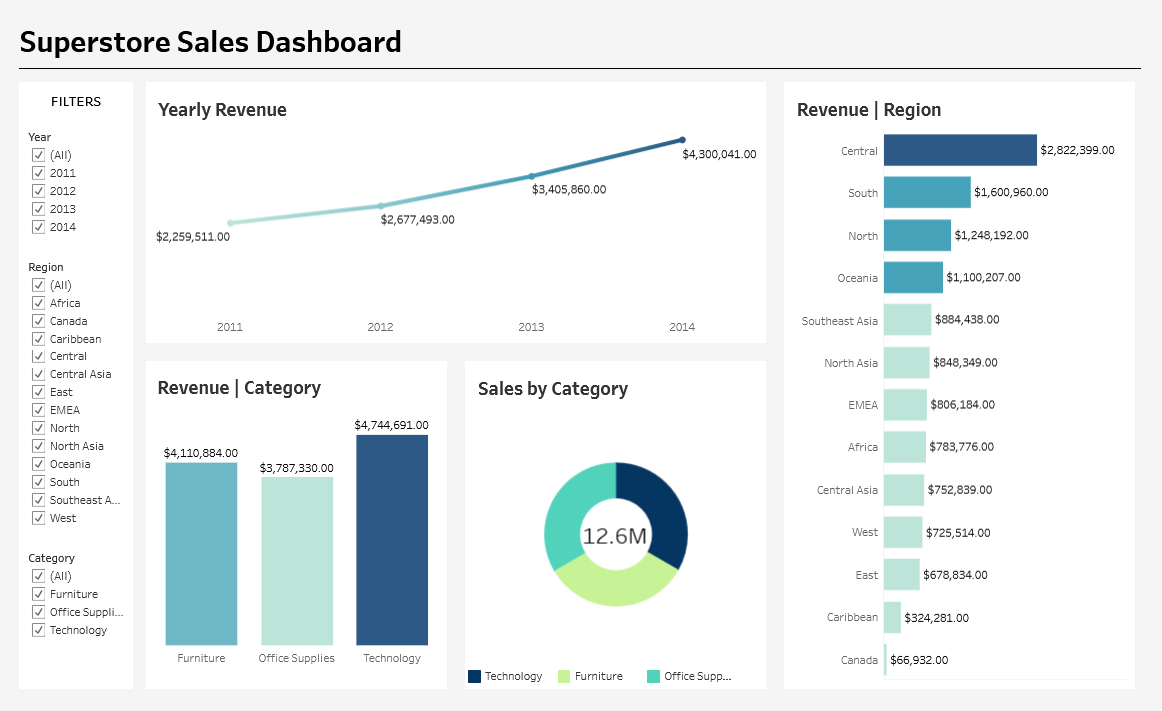

What the dashboard file says about the page in this screenshot:
{"tool":"tableau","page":{"name":"Dashboard 2","canvas":[1300,800],"ordinal":0},"visuals":[{"type":"text","box":[20,20,1260,52]},{"type":"blank","box":[20,72,1260,10]},{"type":"worksheet","title":"Yearly Rev.","mark":"Line","rows":["sales"],"cols":["year"],"box":[155,82,713,312]},{"type":"worksheet","title":"Rev. Region","mark":"Automatic","rows":["region"],"cols":["sales"],"box":[868,82,412,697.9]},{"type":"text","box":[24,92,127,41]},{"type":"filter","title":"Sales: Cate.","param":"[federated.1qzjmn50uj4e0k10y7fl00rsw4m3].[none:year:ok]","box":[24,133,127,139]},{"type":"filter","title":"Rev. Region","param":"[federated.1qzjmn50uj4e0k10y7fl00rsw4m3].[none:region:nk]","box":[24,272,127,310]},{"type":"worksheet","title":"Rev. Category","mark":"Automatic","rows":["sales"],"cols":["category"],"box":[155,394,357,386]},{"type":"worksheet","title":"Sales: Cate.","mark":"Pie","cols":["Calculation_523543499179028481","Calculation_523543499179507715"],"box":[522,404,336,342]},{"type":"filter","title":"Rev. Category","param":"[federated.1qzjmn50uj4e0k10y7fl00rsw4m3].[none:category:nk]","box":[24,582,127,120]},{"type":"legend","title":"Sales: Cate.","param":"[federated.1qzjmn50uj4e0k10y7fl00rsw4m3].[none:category:nk]","box":[522,746,336,24]}]}

Visuals, with their boxes in screenshot pixels (x1, y1, x2, y2), scaled from the page's 1300x800 canvas onto the 1162x711 screenshot:
text: Rect(18, 18, 1144, 64)
blank: Rect(18, 64, 1144, 73)
"Yearly Rev." worksheet (Line marks): Rect(139, 73, 776, 350)
"Rev. Region" worksheet: Rect(776, 73, 1144, 693)
text: Rect(21, 82, 135, 118)
"Sales: Cate." filter: Rect(21, 118, 135, 242)
"Rev. Region" filter: Rect(21, 242, 135, 517)
"Rev. Category" worksheet: Rect(139, 350, 458, 693)
"Sales: Cate." worksheet (Pie marks): Rect(467, 359, 767, 663)
"Rev. Category" filter: Rect(21, 517, 135, 624)
"Sales: Cate." legend: Rect(467, 663, 767, 684)
